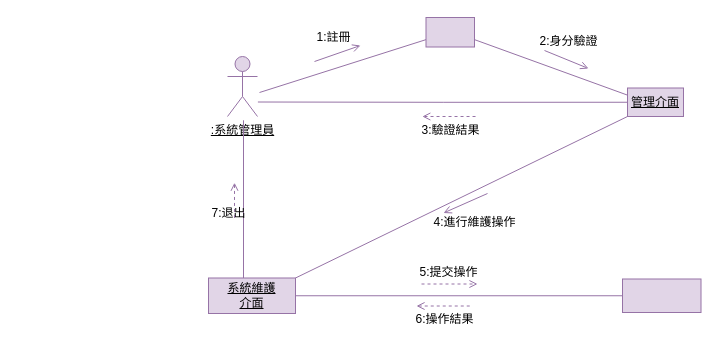
The diagram is 719 pixels wide and 350 high, and some of its shapes have lost their labels. The centre of each missing label's shape, as x and y in pixels:
"登錄" goes at point 449,31.
"系統數據庫" goes at point 661,295.
